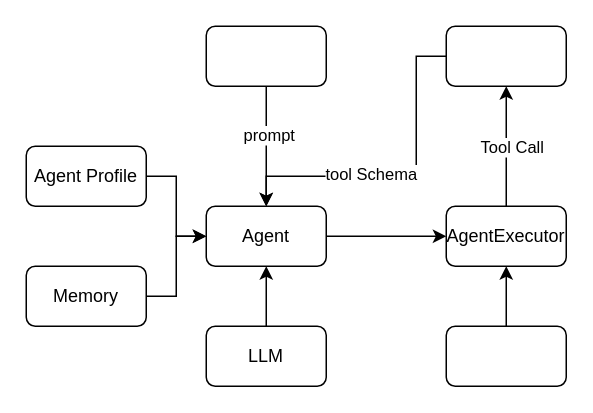
This 593x413 diagram has some shape labels left out. The box of each missing label's shape, as (x1, y1, x2, y2) in pixels:
Prompt管理: (205, 25, 326, 86)
RAG Tool: (445, 325, 566, 386)
toolserver: (445, 25, 566, 86)
